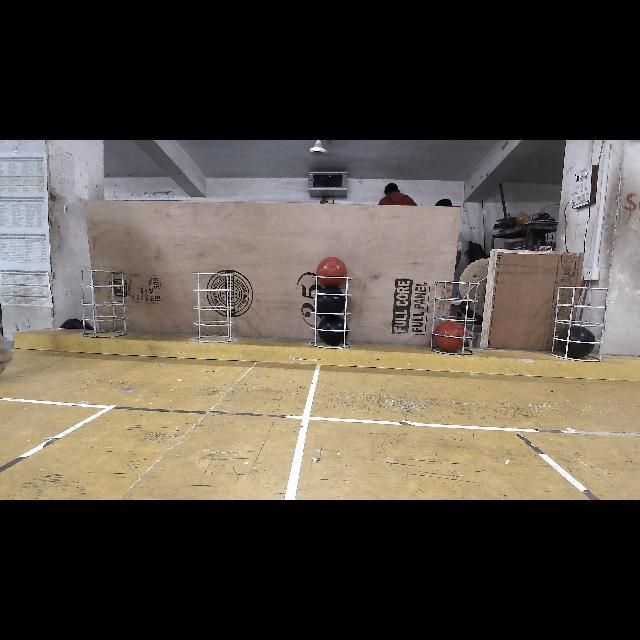P: (558, 327, 596, 359), (318, 317, 348, 345), (316, 288, 344, 316)
R: (435, 320, 467, 350), (316, 256, 348, 286)
S: (552, 284, 610, 362), (426, 278, 482, 354), (74, 267, 130, 335), (308, 269, 354, 351), (193, 272, 240, 342)
